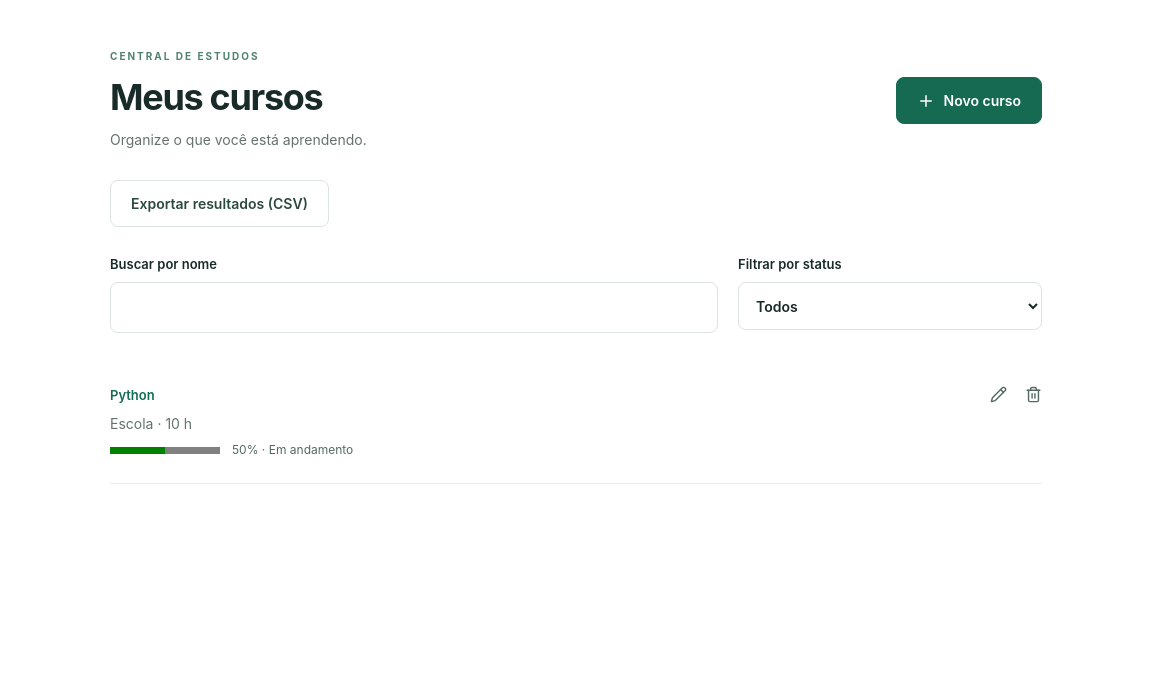
Test case: edits a course without overwriting its owner
Click the button named "Editar Python" at (998, 394), box [990,376,1007,413]
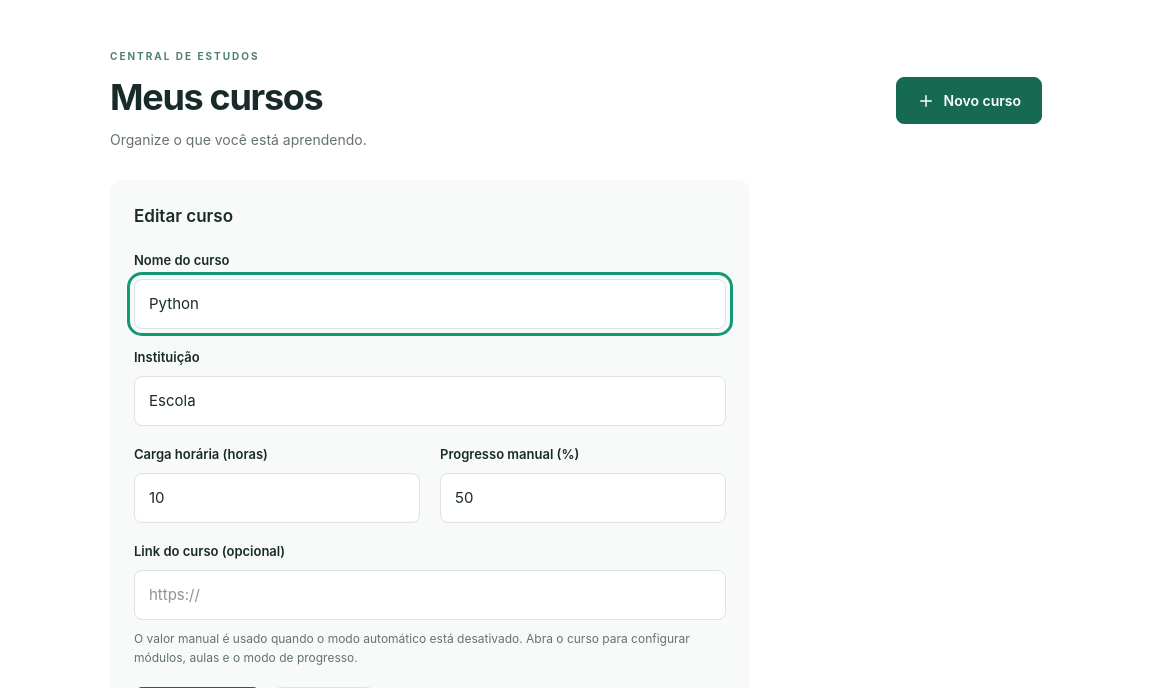
Replace the text in the number field labelled "Progresso manual (%)" with "100" at (583, 498), box [440,473,726,523]
(page scrolled)
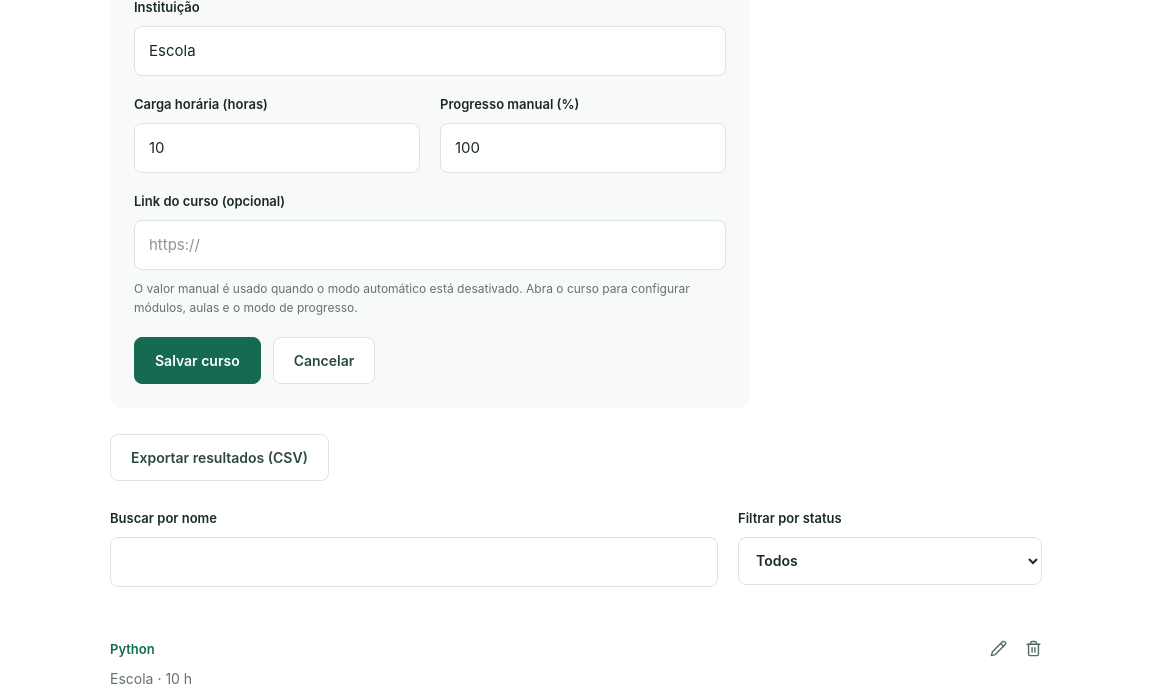
Click the button "Salvar curso" at (197, 361), box [134,338,261,384]
(page scrolled)
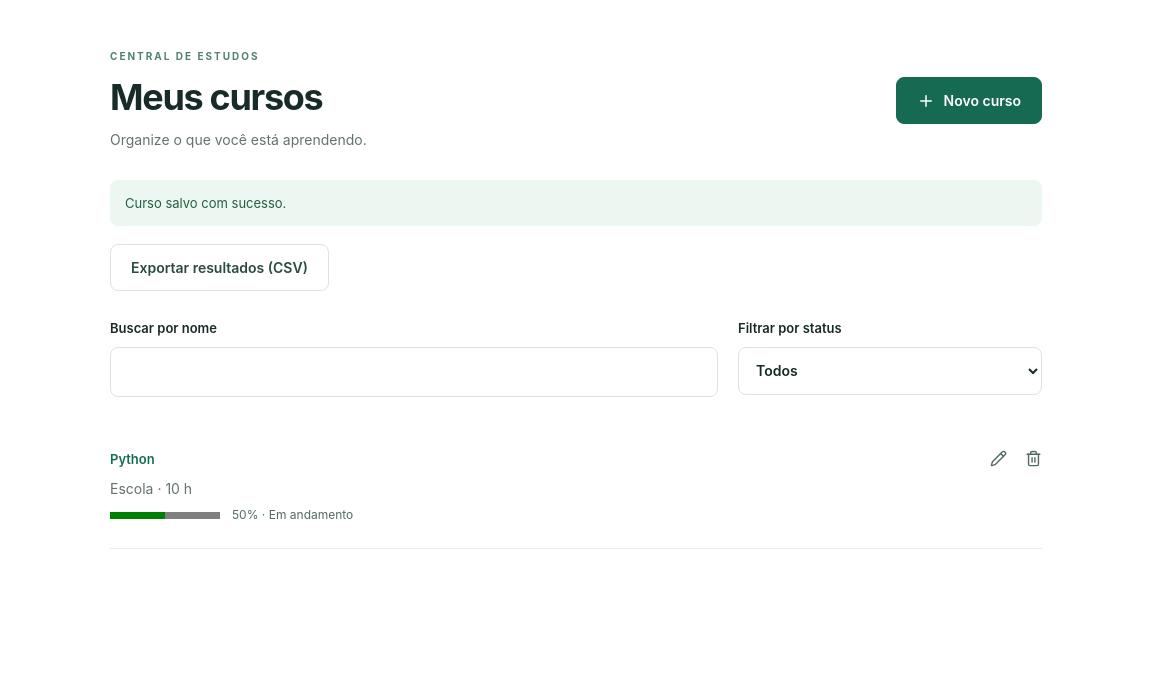
Expected: the text "Curso salvo com sucesso." is shown, [110,180,1042,226]
